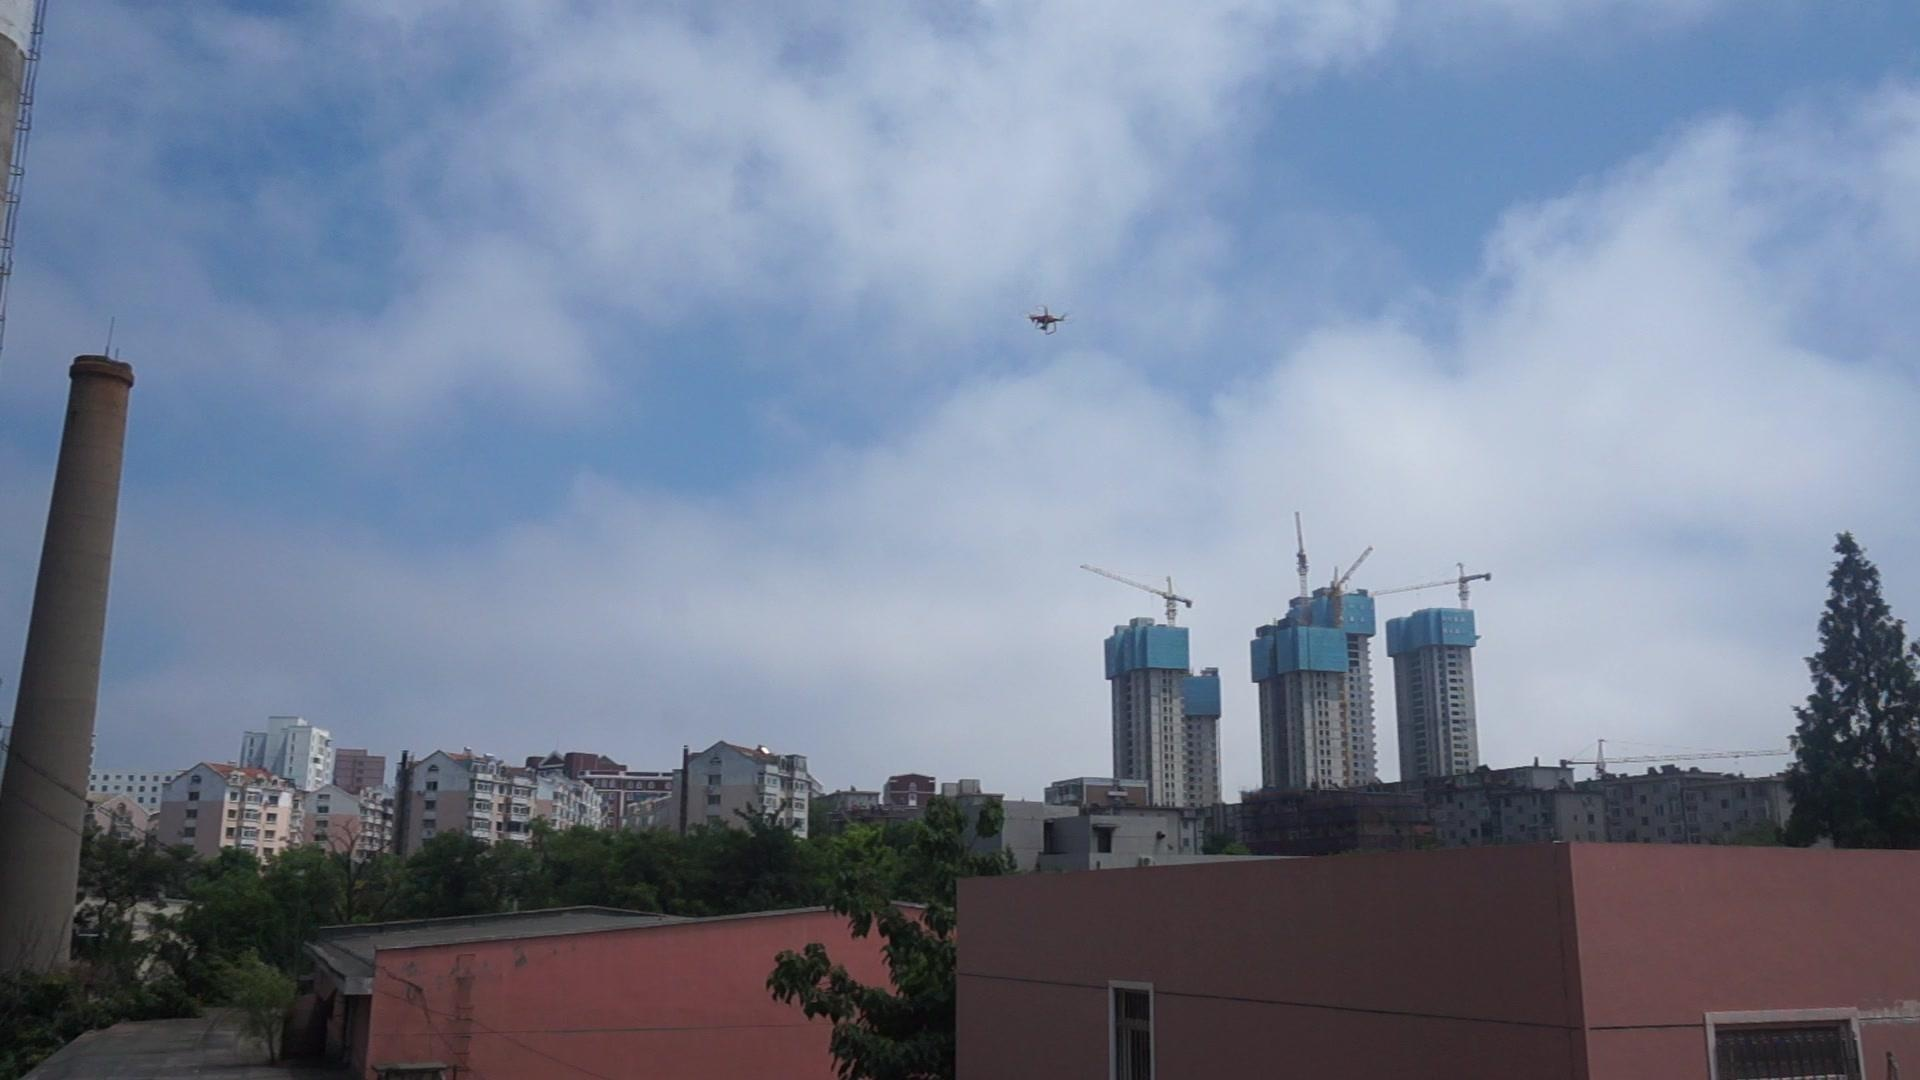UAV: (1025, 305, 1075, 336)
